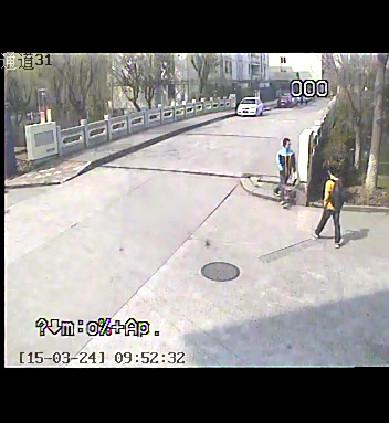person: (311, 159, 349, 249), (272, 136, 299, 210)
